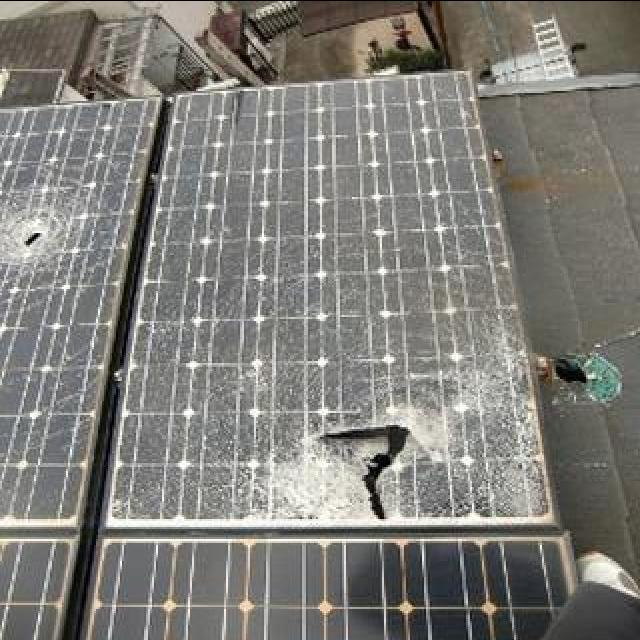cracked: (0, 74, 542, 524)
